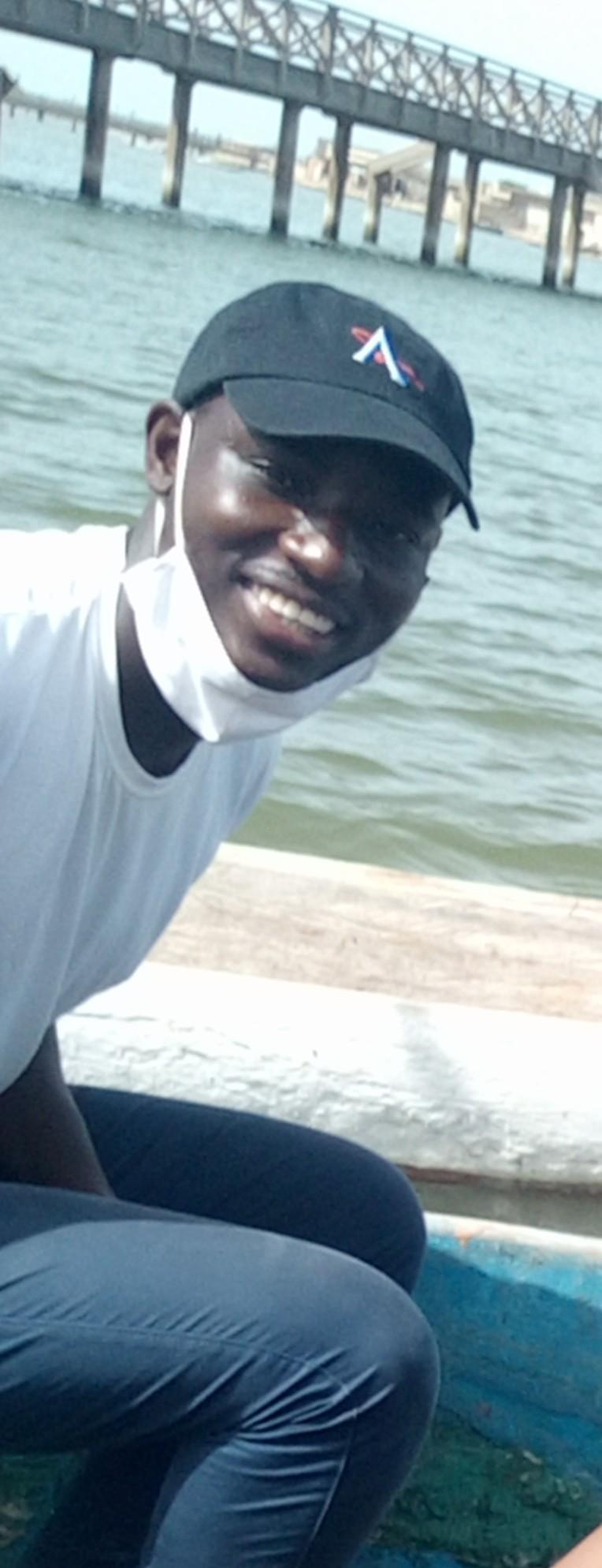Wore Mask Incorrectly: (132, 272, 487, 767)
